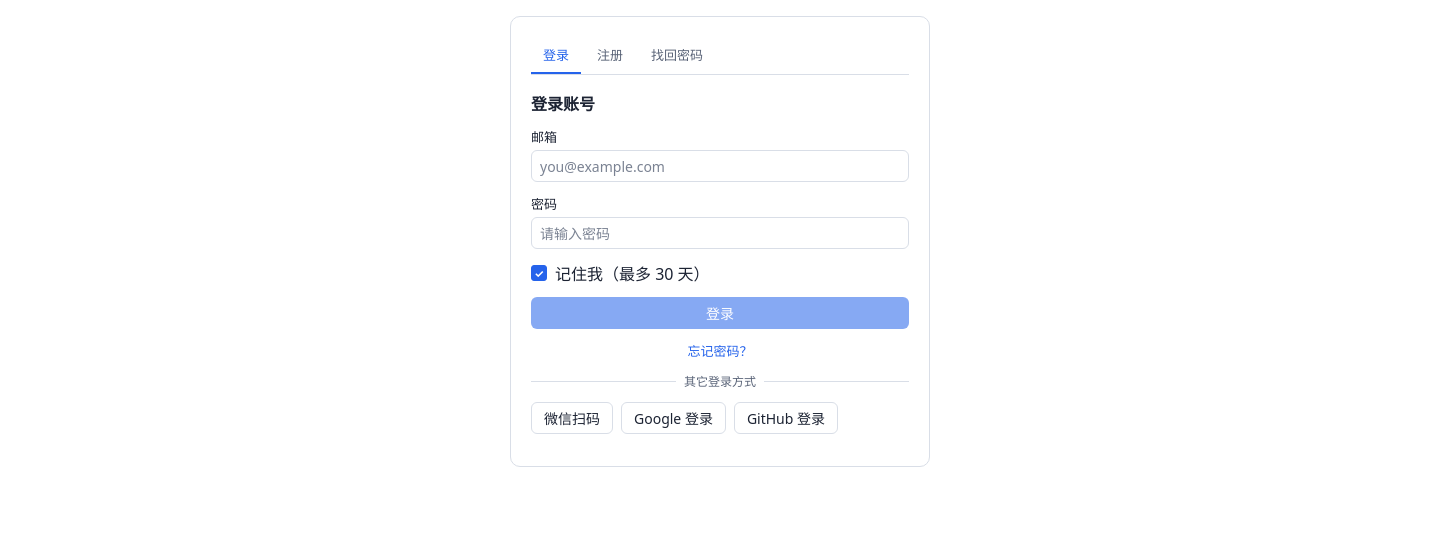
Test case: 离线本地模式（FR-ACC-05） › 恢复探测成功后横幅消失
Type "a@b.com" into the field named "登录邮箱" at (720, 166), box [540, 151, 900, 181]
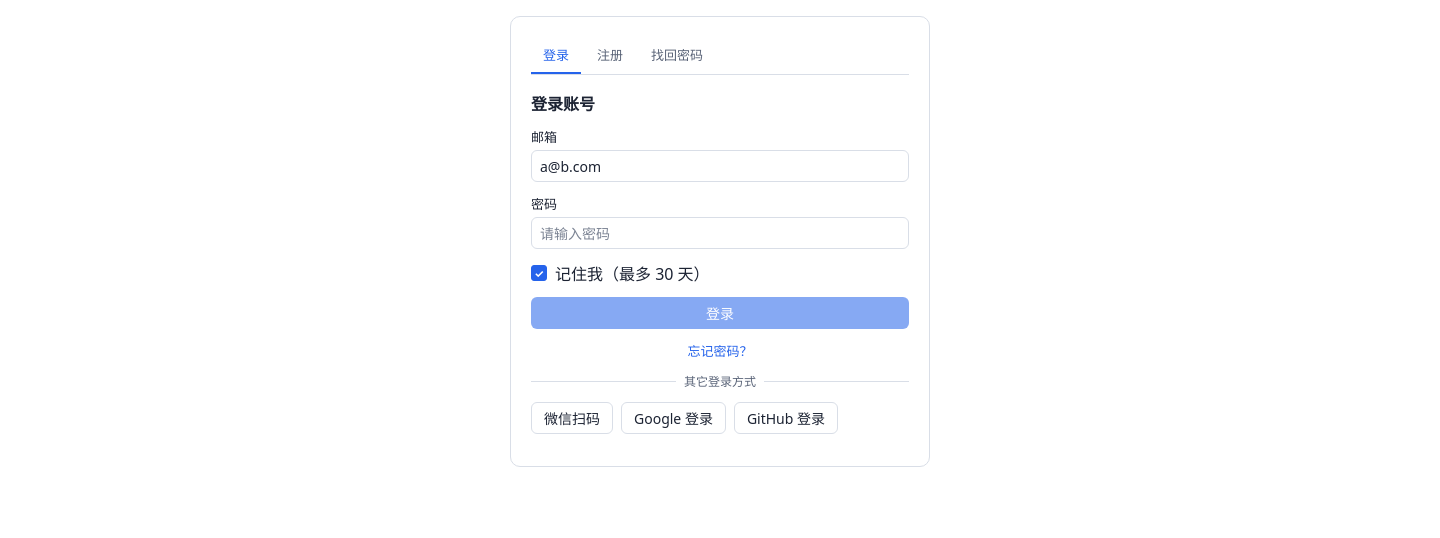
Type "Abcd1234" into the password field named "登录密码" at (720, 233), box [540, 218, 900, 248]
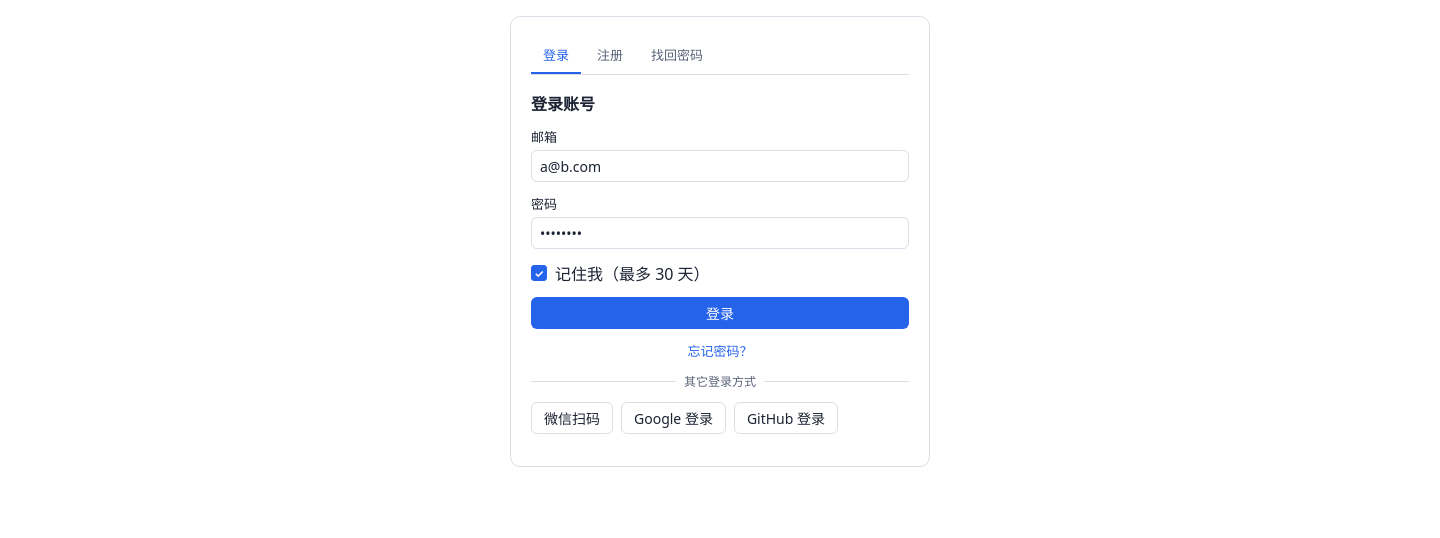
Click the button "登录" at (720, 313), box [531, 297, 909, 329]
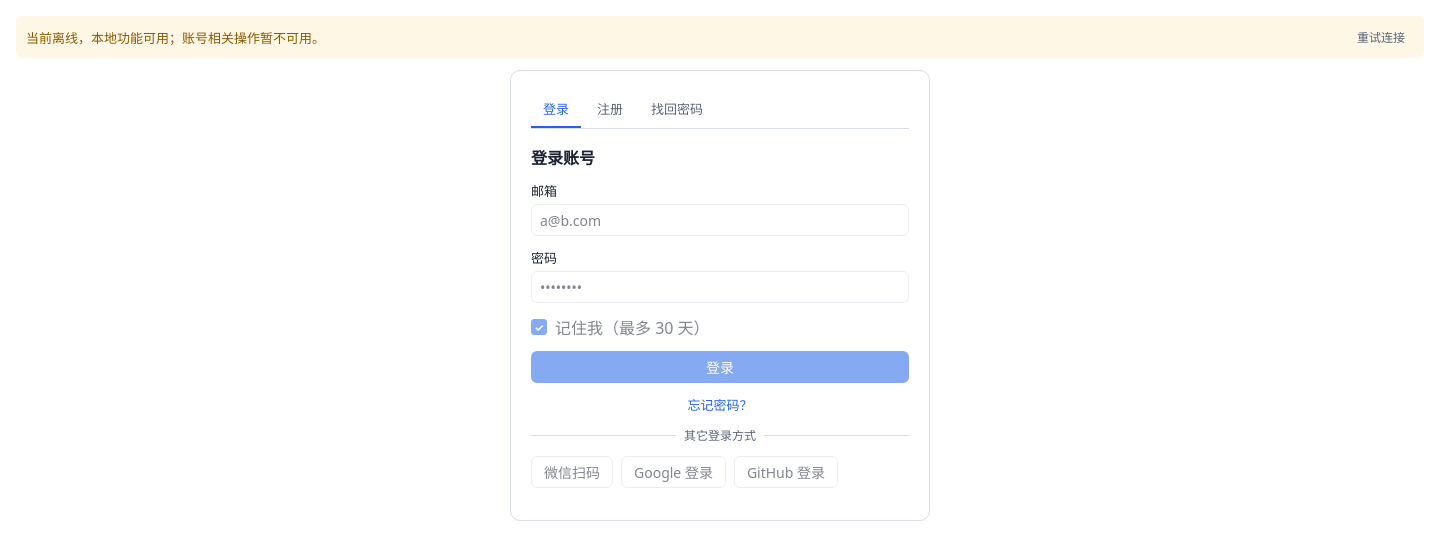
Click the button "重试连接" at (1381, 37), box [1348, 24, 1414, 50]
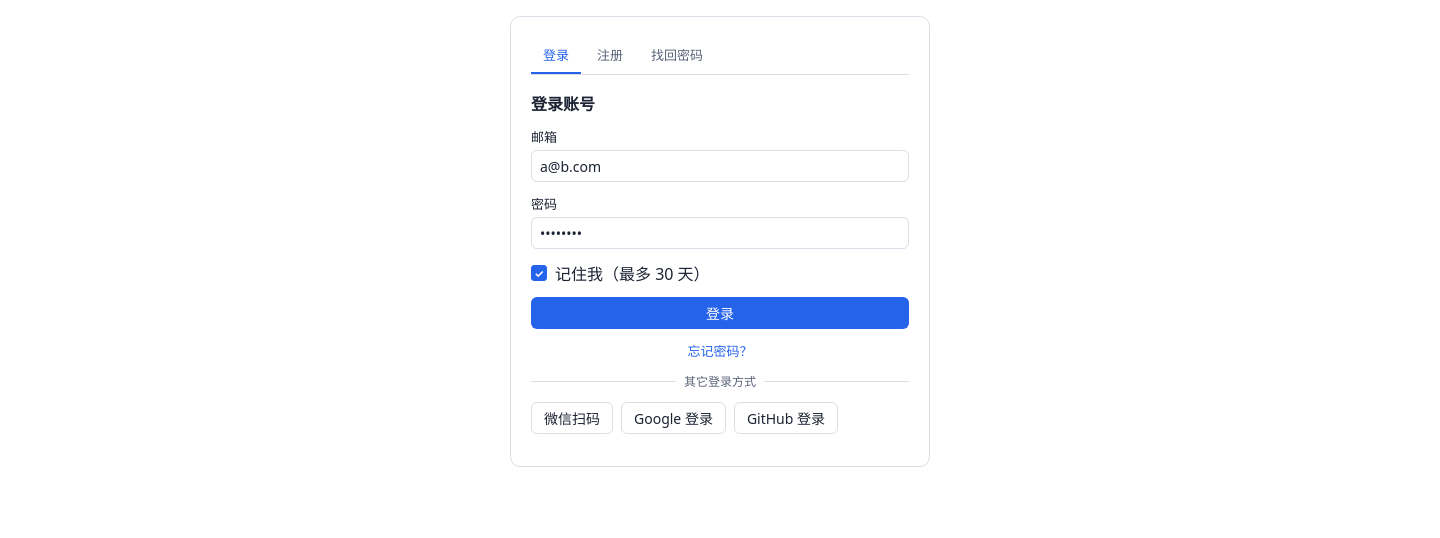
Check: the text "当前离线，本地功能可用" is not shown
